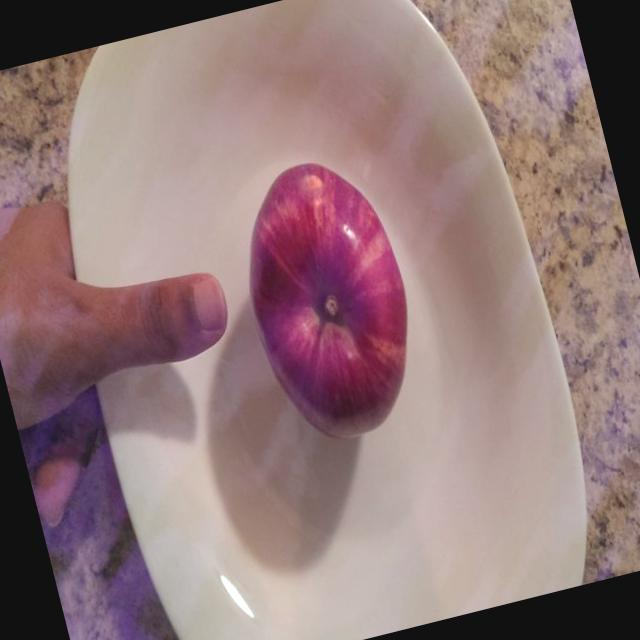Apple: (216, 136, 444, 464)
Finger: (117, 255, 246, 382)
